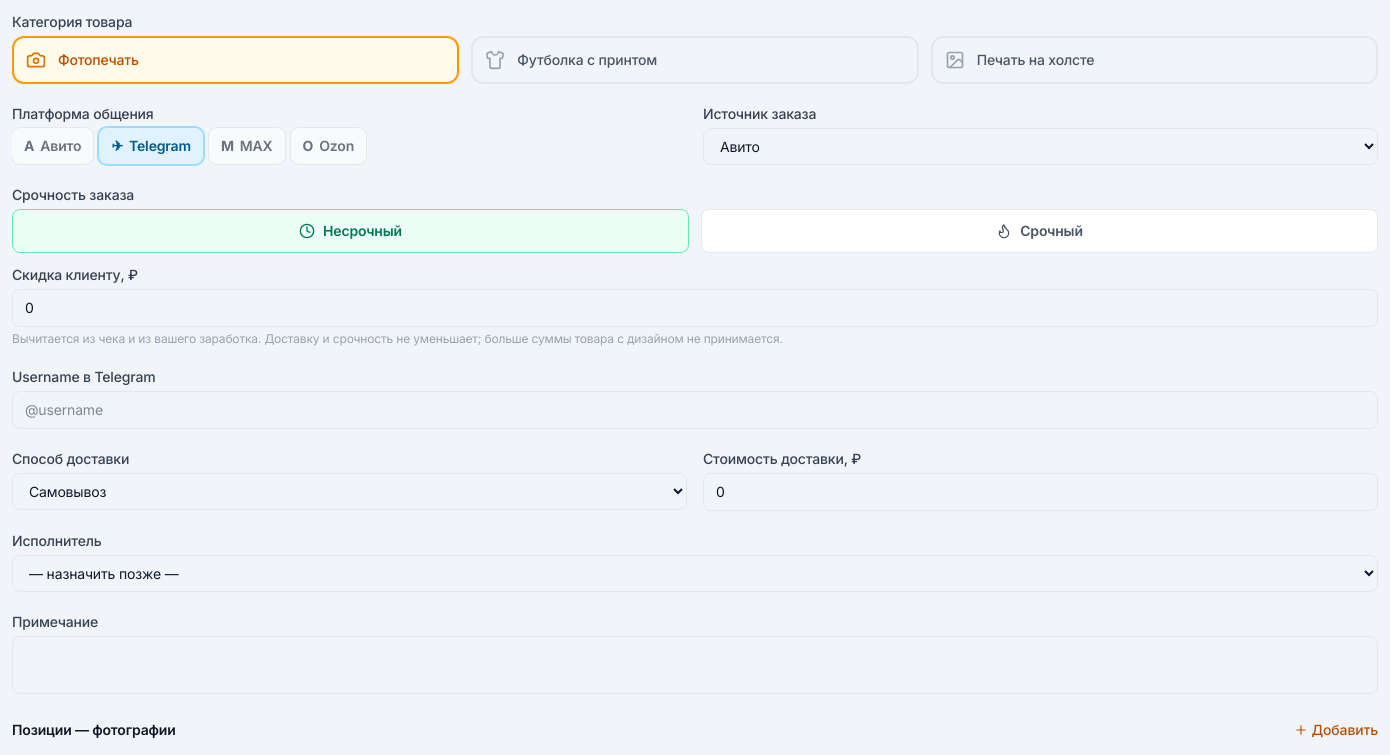
Test: номер заказа на площадке › поле появляется только у заказа с маркетплейса
The image size is (1390, 755).
Check: the field labelled "Номер заказа на площадке" is not shown
Click the text "Футболка с принтом". click: click(587, 60)
box: [517,50,657,70]
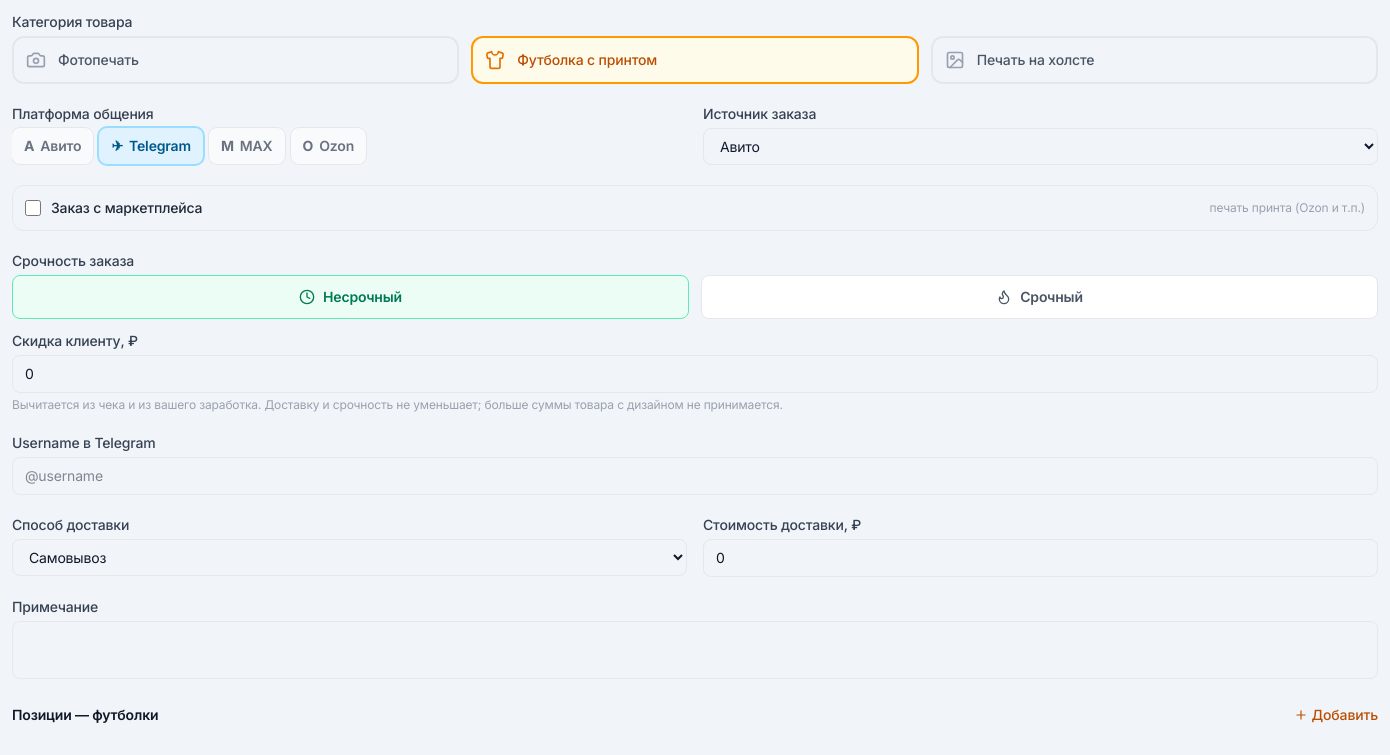
Click the text "Заказ с маркетплейса". click: click(127, 208)
box: [51,198,202,218]
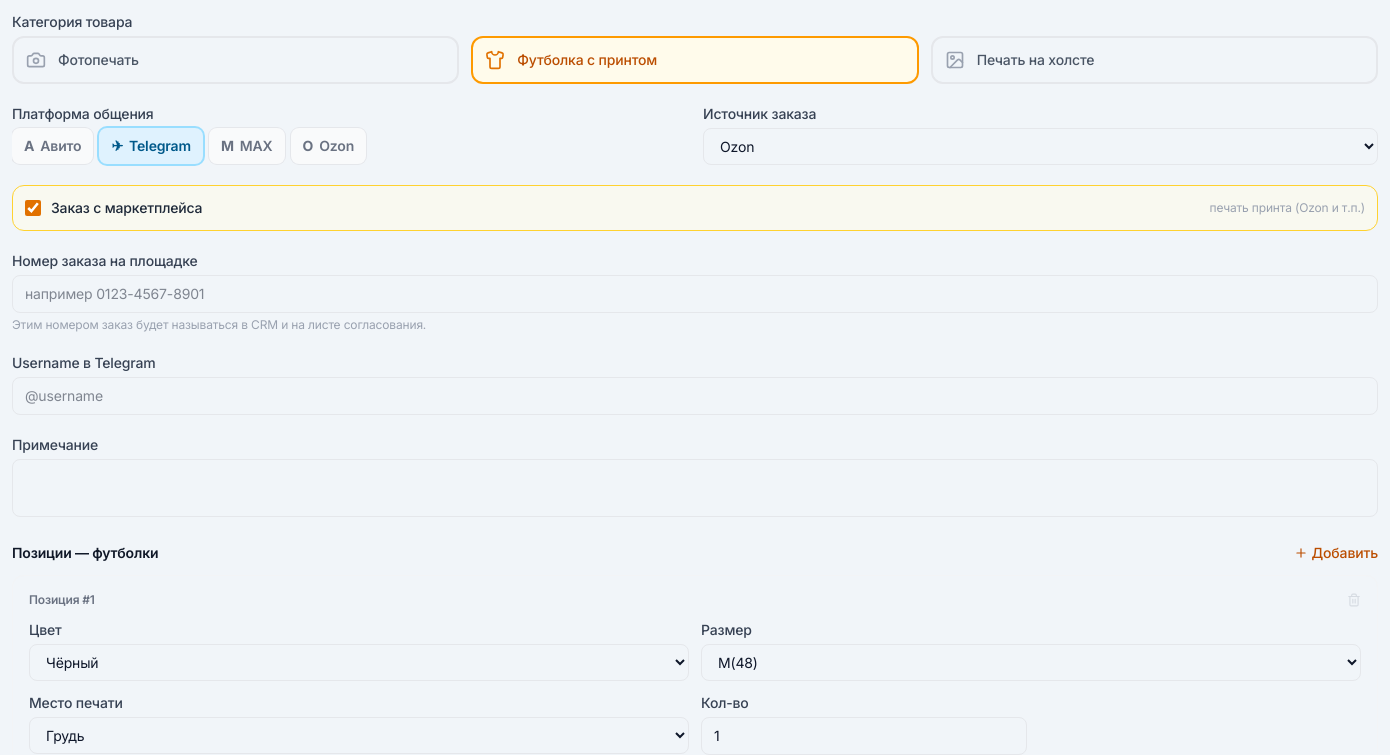
Check: the field labelled "Номер заказа на площадке" is shown, box [12,275,1378,313]
